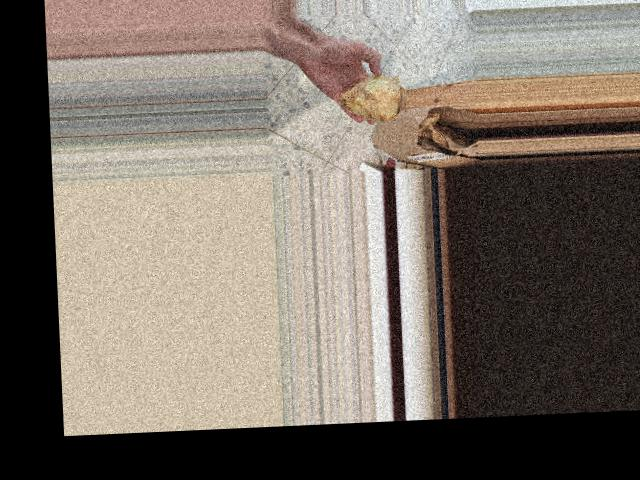onion: (333, 72, 409, 125)
